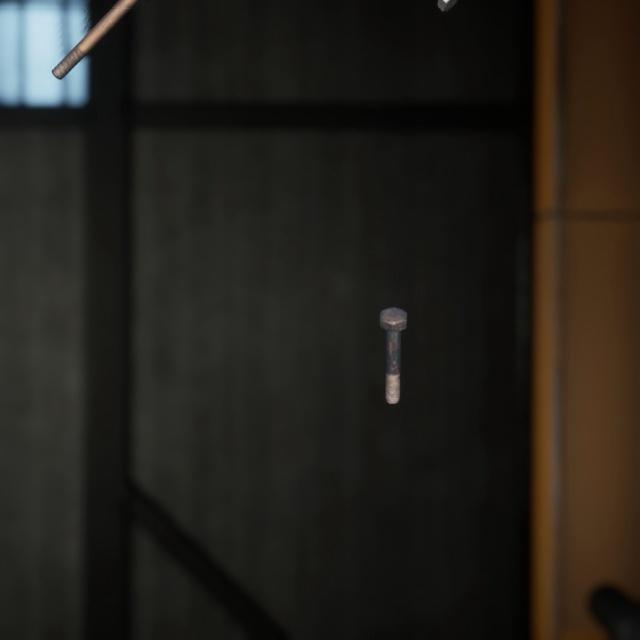bolt: (47, 0, 136, 75), (375, 284, 411, 390)
